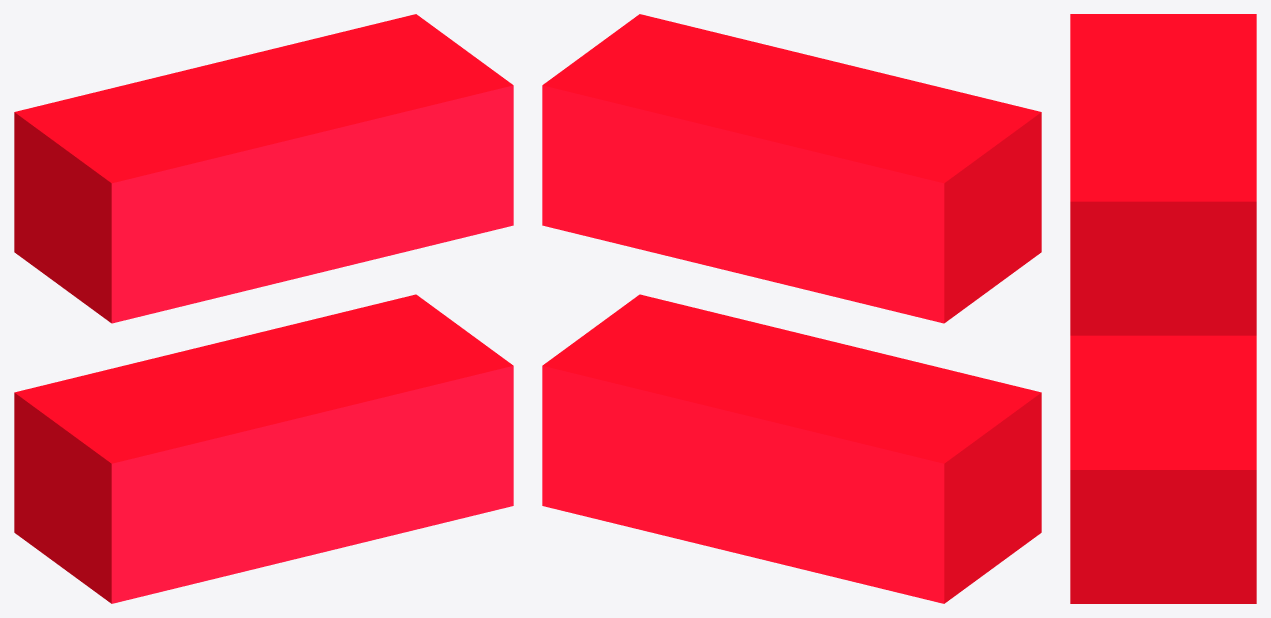
The model's file is 2408c529-6709-4d45-90e3-7a150dbc9f78.glb.
The picture shows the model from 3 angles, left to right: view 1: azimuth 30°, elevation 25°; view 2: azimuth 150°, elevation 25°; view 3: azimuth 270°, elevation 25°; orthographic projection. The views are drawn at different scales.
Visible parts, largest first — view 1: =_DeltaBlock_Red; view 2: =_DeltaBlock_Red; view 3: =_DeltaBlock_Red.
Part boxes in pixels (x1,y1,x2,y2): =_DeltaBlock_Red: (14, 14, 513, 603); =_DeltaBlock_Red: (542, 14, 1041, 603); =_DeltaBlock_Red: (1070, 14, 1256, 603).
Size of what is drawn, in the model's own units: 0.1071 by 0.1071 by 0.045.
Materials: 2 (2 with a texture image).
